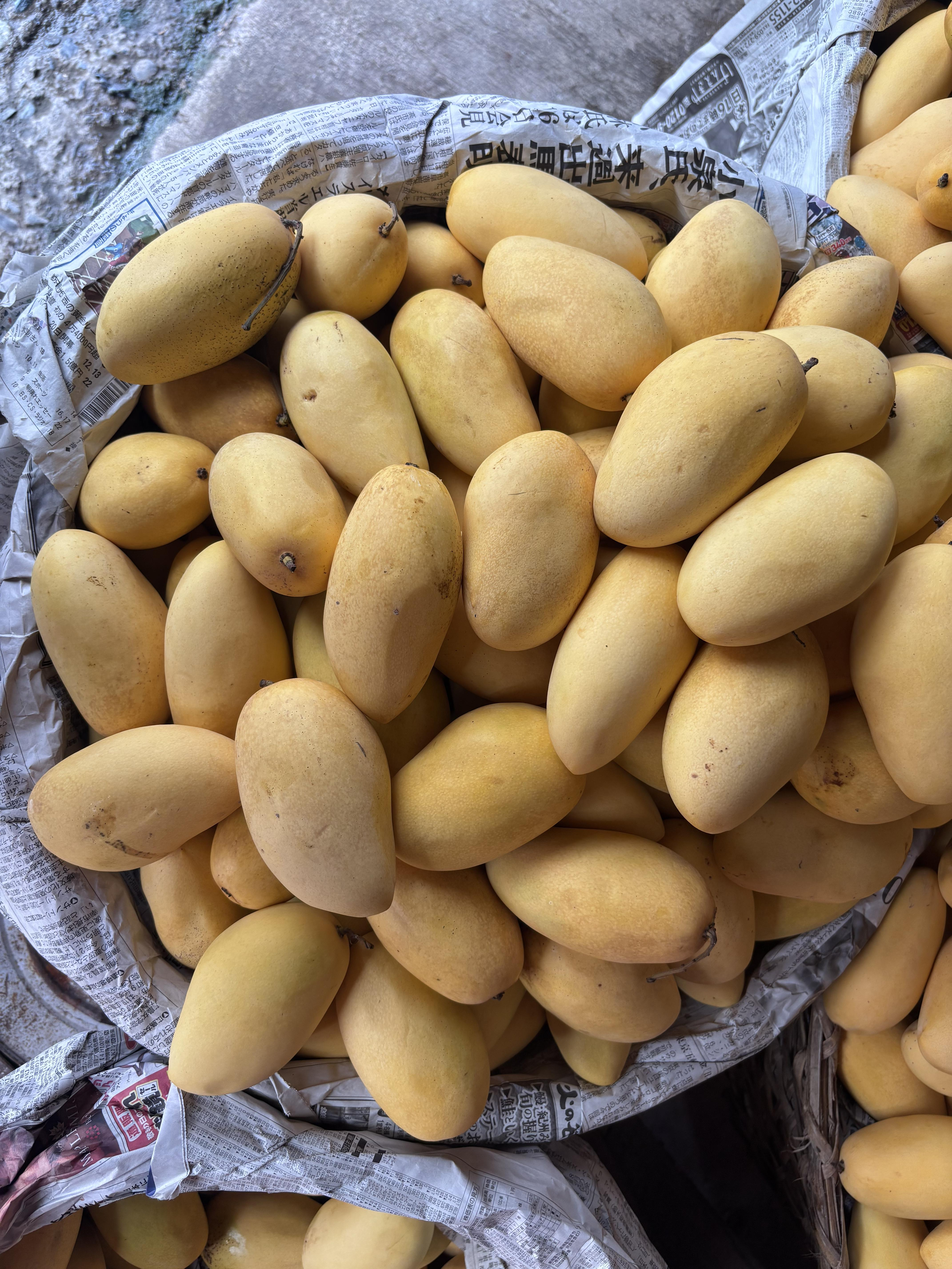mango: (594, 332, 807, 547), (677, 453, 897, 646), (235, 678, 395, 917), (96, 203, 301, 385), (323, 464, 462, 723), (168, 900, 351, 1095), (484, 235, 671, 411), (28, 724, 239, 871), (463, 431, 598, 652), (209, 433, 346, 596), (79, 432, 214, 549)
occluded: (662, 626, 829, 834), (547, 545, 697, 774), (392, 703, 585, 870), (337, 933, 489, 1141), (486, 828, 715, 963), (31, 529, 170, 736), (390, 289, 540, 475), (280, 311, 428, 495), (851, 543, 952, 804), (165, 542, 293, 738), (714, 788, 913, 904), (446, 164, 646, 278), (368, 859, 523, 1005), (824, 868, 947, 1034), (646, 199, 781, 350), (520, 928, 680, 1043), (852, 363, 952, 543), (765, 325, 895, 460), (792, 696, 926, 825), (140, 353, 298, 453), (661, 819, 755, 985), (435, 589, 561, 706), (140, 829, 246, 968), (851, 9, 952, 151), (297, 194, 408, 320), (829, 175, 952, 273), (766, 256, 898, 346), (840, 1115, 952, 1220), (838, 1024, 946, 1120), (850, 98, 952, 197), (302, 1199, 434, 1269), (202, 1192, 319, 1269), (92, 1194, 208, 1269), (371, 670, 450, 777), (211, 808, 292, 910), (560, 762, 663, 841), (392, 221, 484, 307), (546, 1012, 630, 1086), (898, 243, 952, 356), (614, 701, 669, 794), (848, 1204, 926, 1269), (753, 892, 852, 942), (917, 939, 952, 1073), (0, 1212, 81, 1269), (539, 379, 622, 434), (293, 593, 341, 688), (424, 438, 471, 527), (489, 995, 545, 1069), (901, 1023, 952, 1097), (165, 536, 218, 605), (471, 980, 524, 1048), (297, 999, 348, 1058), (916, 148, 952, 231), (617, 209, 667, 263), (675, 972, 744, 1008), (571, 425, 616, 474), (920, 1219, 952, 1269), (889, 353, 952, 374), (911, 802, 952, 828), (938, 844, 952, 909), (925, 518, 952, 545)
